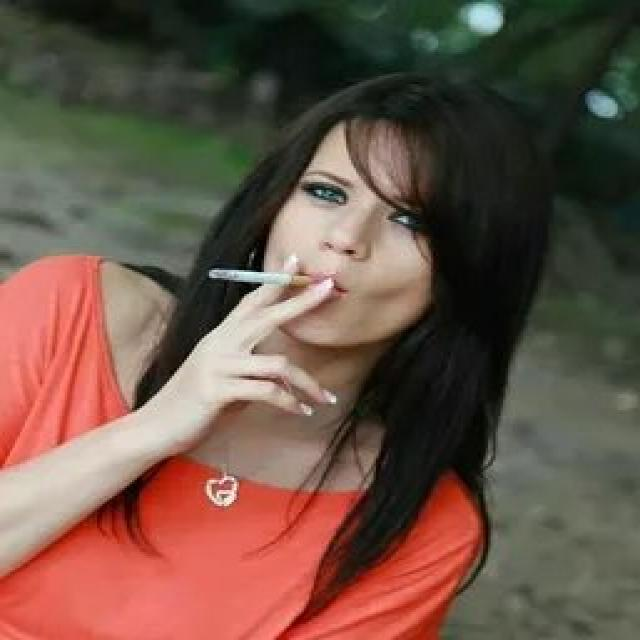cigarette: (207, 266, 316, 292)
